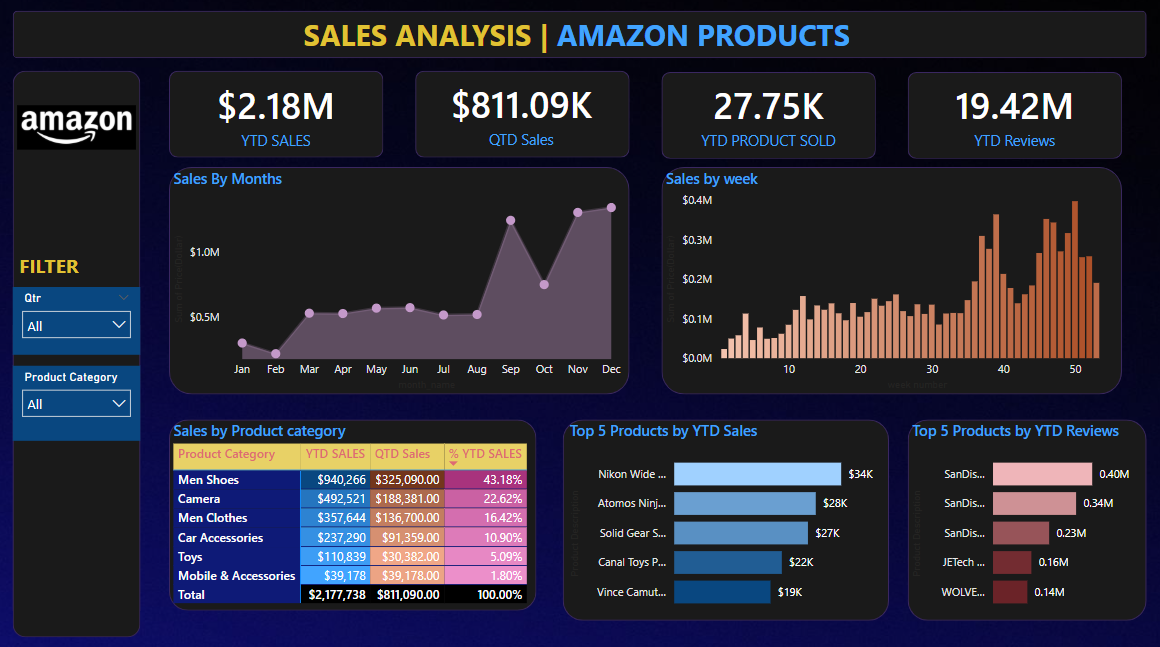

What the dashboard file says about the page in this screenshot:
{"tool":"powerbi","page":{"name":"Page 1","canvas":[1280,720],"ordinal":0},"visuals":[{"type":"shape","box":[15.1,15.1,1244.6,52.1],"z":0},{"type":"shape","box":[14.5,80.8,140,622],"z":1000},{"type":"textbox","box":[292,15.7,684.1,52],"z":2000},{"type":"shape","box":[187,80.8,235.3,95.3],"z":3000},{"type":"card","fields":{"Values":["Amazon_Data.YTD SALES"]},"box":[187,80.8,235.3,95.3],"z":4000},{"type":"shape","box":[457.2,80.8,235.3,95.3],"z":5000},{"type":"shape","box":[727.5,82,235.3,95.3],"z":6000},{"type":"shape","box":[997.7,82,235.3,95.3],"z":7000},{"type":"card","fields":{"Values":["Amazon_Data.QTD Sales"]},"box":[455.6,81,236,94.7],"z":8000},{"type":"card","fields":{"Values":["Amazon_Data.YTD PRODUCT SOLD"]},"box":[727.5,80.8,235.3,95.3],"z":9000},{"type":"card","fields":{"Values":["Amazon_Data.YTD Reviews"]},"box":[997.7,80.8,235.3,95.3],"z":10000},{"type":"shape","box":[187,187,505.5,249.7],"z":11000},{"type":"areaChart","title":"Sales By Months","fields":{"Category":["date.month_name"],"Y":["Amazon_Data.Price(Dollar)"]},"box":[187,188.2,505.5,248.5],"z":12000},{"type":"shape","box":[727.5,187,505.5,249.7],"z":13000},{"type":"columnChart","title":"Sales by week","fields":{"Category":["date.week number"],"Y":["Amazon_Data.Price(Dollar)"]},"box":[727.5,188.2,505.5,248.5],"z":14000},{"type":"shape","box":[186.6,463.8,403.4,209.9],"z":15000},{"type":"shape","box":[618.9,463.8,358.1,220.9],"z":16000},{"type":"pivotTable","title":"Sales by Product category","fields":{"Rows":["Amazon_Data.Product Category"],"Values":["Amazon_Data.YTD SALES1","Amazon_Data.QTD Sales","Amazon_Data.YTD SALES"]},"box":[186.6,463.8,403.4,209.9],"z":17000},{"type":"shape","box":[997.6,463.8,262.1,220.9],"z":18000},{"type":"clusteredBarChart","title":"Top 5 Products by YTD Sales","fields":{"Y":["Amazon_Data.YTD SALES"],"Category":["Amazon_Data.Product Description"]},"box":[621.6,463.8,355.4,220.9],"z":19000},{"type":"clusteredBarChart","title":"Top 5 Products by YTD Reviews","fields":{"Y":["Amazon_Data.YTD Reviews"],"Category":["Amazon_Data.Product Description"]},"box":[997.6,463.8,251.1,220.9],"z":20000},{"type":"slicer","fields":{"Values":["Amazon_Data.Product Category"]},"box":[15.1,404.8,140,82.3],"z":21000},{"type":"slicer","fields":{"Values":["date.Qtr"]},"box":[15.1,318.4,140,74.1],"z":22000},{"type":"image","box":[15.1,98.8,140,89.2],"z":23000},{"type":"textbox","box":[15.1,260.7,79.6,59],"z":24000}]}

Visuals, with their boxes in screenshot pixels (x1, y1, x2, y2), scaled from the page's 1280x720 canvas onto the 1160x647 screenshot:
shape: 14,14,1142,60
shape: 13,73,140,632
textbox: 265,14,885,61
shape: 169,73,383,158
card - Amazon_Data.YTD SALES: 169,73,383,158
shape: 414,73,628,158
shape: 659,74,873,159
shape: 904,74,1117,159
card - Amazon_Data.QTD Sales: 413,73,627,158
card - Amazon_Data.YTD PRODUCT SOLD: 659,73,873,158
card - Amazon_Data.YTD Reviews: 904,73,1117,158
shape: 169,168,628,392
"Sales By Months" areaChart: 169,169,628,392
shape: 659,168,1117,392
"Sales by week" columnChart: 659,169,1117,392
shape: 169,417,535,605
shape: 561,417,885,615
"Sales by Product category" pivotTable: 169,417,535,605
shape: 904,417,1142,615
"Top 5 Products by YTD Sales" clusteredBarChart: 563,417,885,615
"Top 5 Products by YTD Reviews" clusteredBarChart: 904,417,1132,615
slicer - Amazon_Data.Product Category: 14,364,141,438
slicer - date.Qtr: 14,286,141,353
image: 14,89,141,169
textbox: 14,234,86,287
